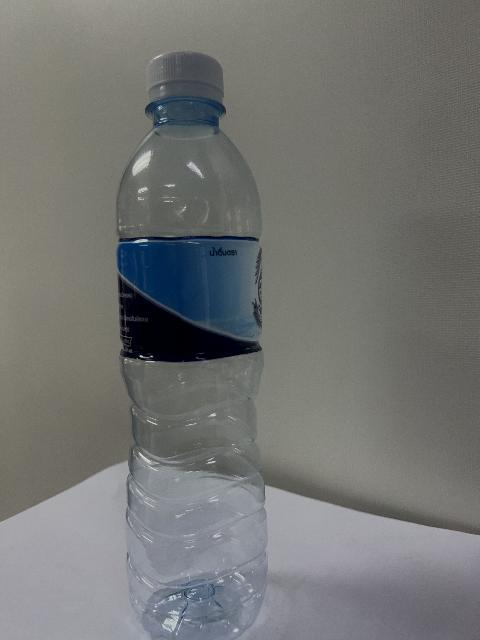bottle: (117, 52, 267, 639)
